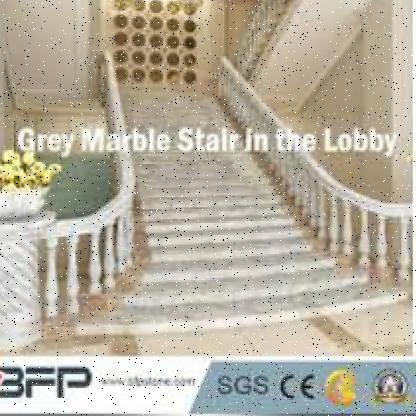stair_up: (126, 194, 383, 314)
